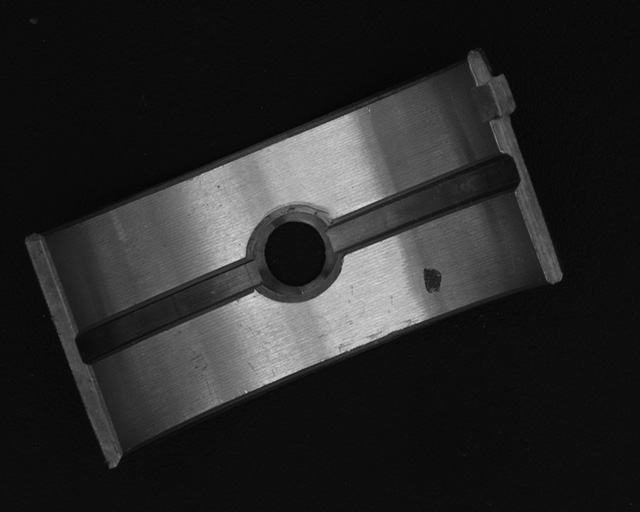blot: (423, 264, 443, 294)
gap: (75, 257, 262, 363), (331, 154, 516, 257)
hole: (257, 206, 333, 294)
